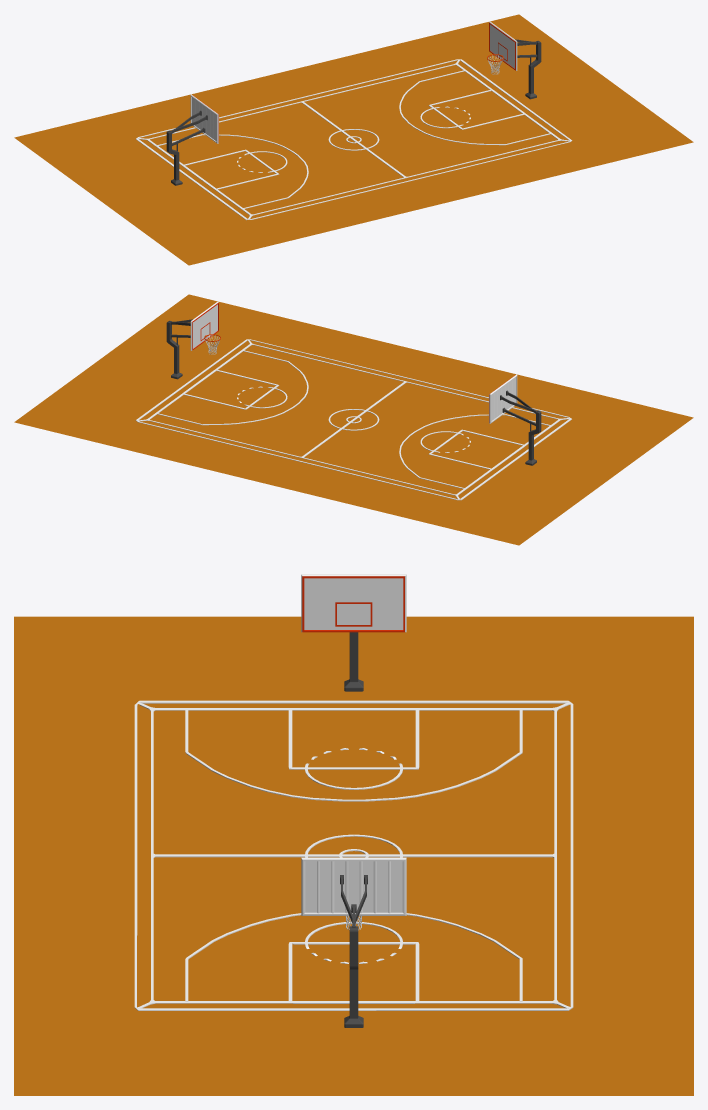
Rendered from BasketCourt.fbx.
3 renders of one model, top to bottom at view 1: azimuth 30°, elevation 25°; view 2: azimuth 150°, elevation 25°; view 3: azimuth 270°, elevation 25°, orthographic. The views are drawn at different scales.
Parts seen in each view (by area): view 1: Plane.002, lineSurrounding, Board, Support, lineOuter, lineBox; view 2: Plane.002, lineSurrounding, Board, Support, lineOuter, lineBox; view 3: Plane.002, Board, lineSurrounding, lineOuter, Support, lineBox, lineBoard, lineCircle.
Boxes of the visible parts, x1,y1,x2,y2 form: Plane.002: [14, 14, 693, 265]; lineSurrounding: [136, 59, 572, 220]; Board: [190, 21, 517, 143]; Support: [166, 39, 541, 185]; lineOuter: [157, 70, 550, 208]; lineBox: [183, 90, 524, 189]; Plane.002: [14, 294, 693, 545]; lineSurrounding: [135, 339, 571, 500]; Board: [190, 301, 517, 423]; Support: [166, 319, 541, 465]; lineOuter: [157, 350, 550, 488]; lineBox: [183, 370, 524, 469]; Plane.002: [14, 616, 693, 1095]; Board: [301, 574, 406, 915]; lineSurrounding: [134, 700, 573, 1010]; lineOuter: [185, 709, 522, 1001]; Support: [340, 632, 367, 1027]; lineBox: [288, 710, 419, 1003]; lineBoard: [302, 576, 404, 632]; lineCircle: [304, 748, 403, 963].
Size of the model in its own units: 781 by 109 by 468.
